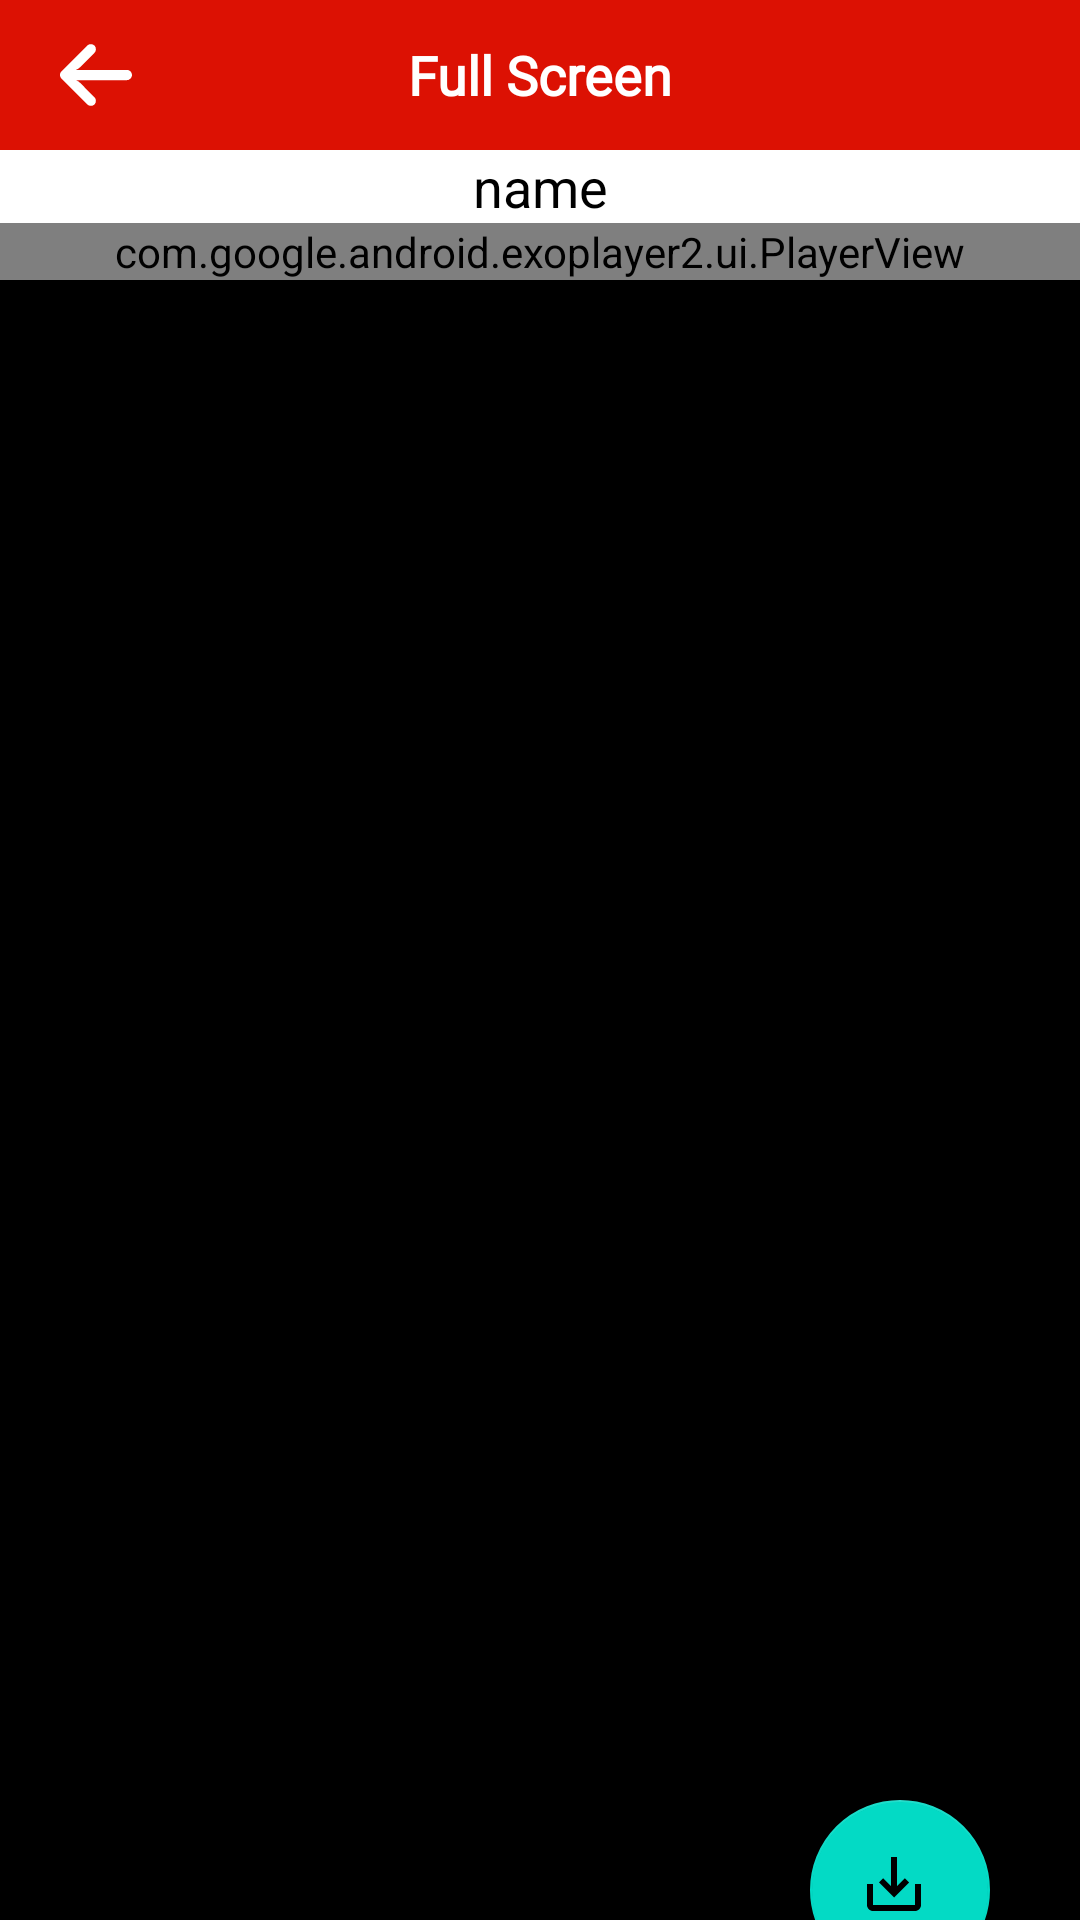

Screen size 1080*1920. Icon name, then its center in pixels as point (x, y):
back: point (96, 75)
